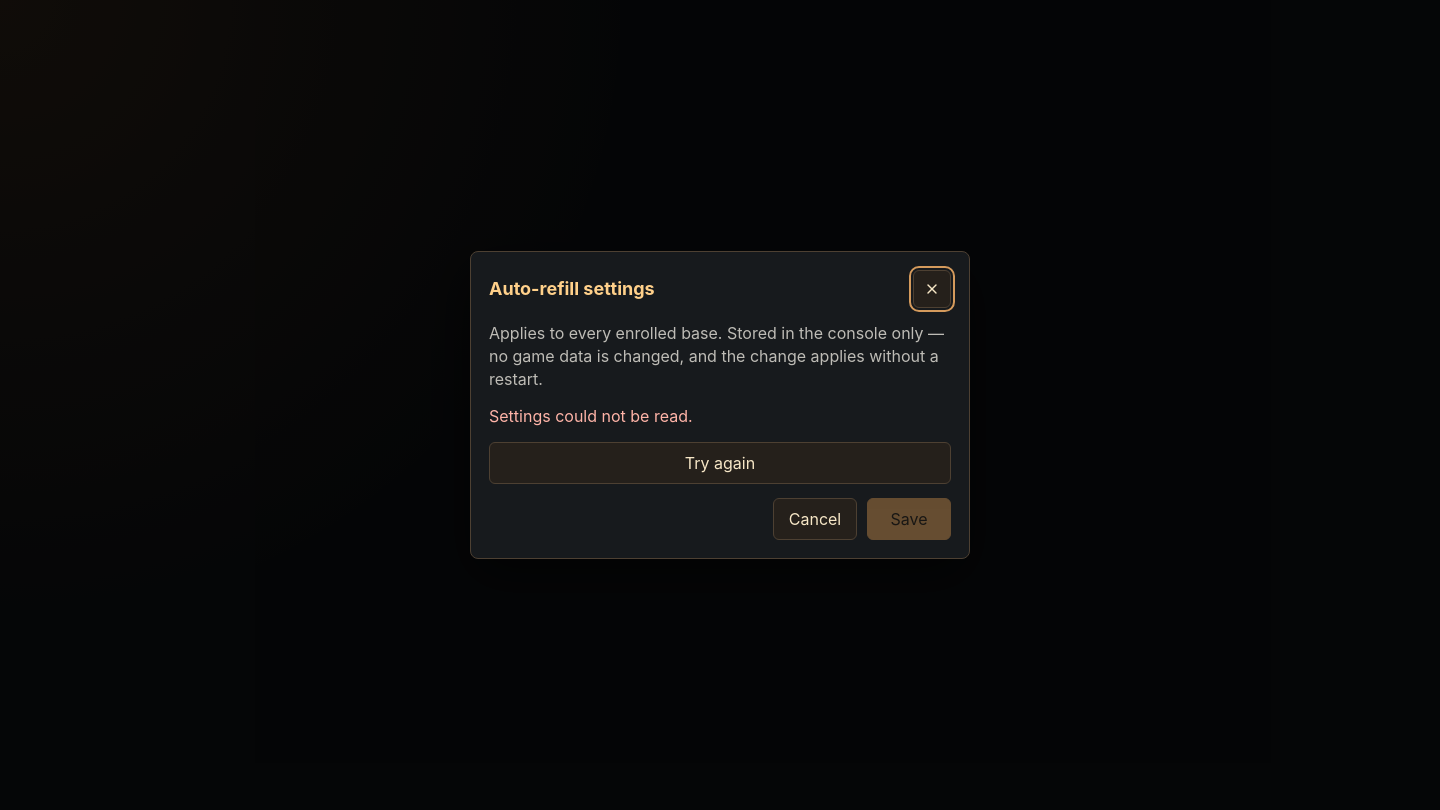
Test: AutoRefillSettingsOverlay › shows a load failure in the dialog with a way to retry
Expected: the text "Settings could not be read." is shown, 489,406 -> 693,426
Click the button "Try again" at (720, 463), box 489,442 -> 951,484
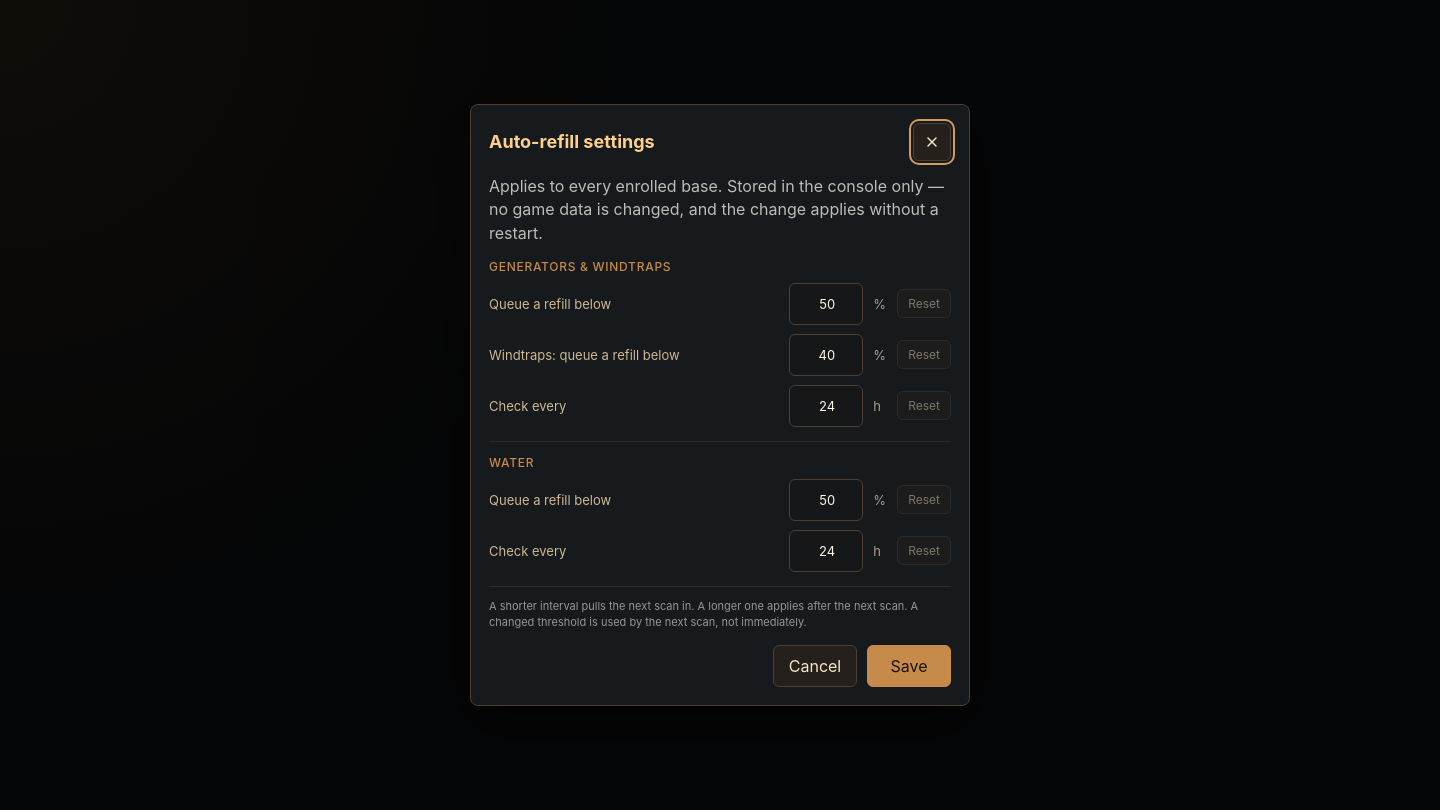
Expected: the number of number fields is 5, 789,283 -> 863,325; 789,334 -> 863,376; 789,385 -> 863,427; 789,479 -> 863,521; 789,530 -> 863,572
Expected: the text "Settings could not be read." is gone
